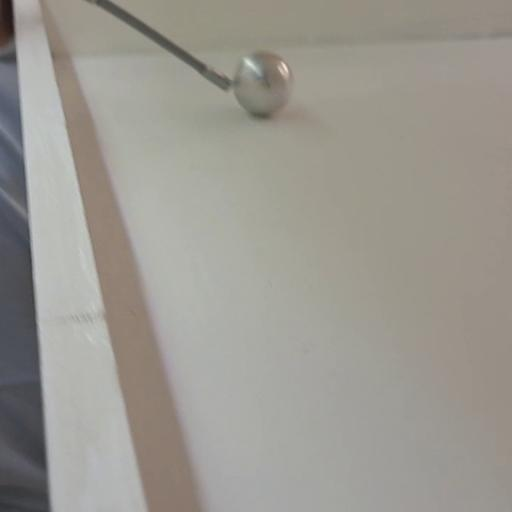alive: (232, 51, 294, 118)
